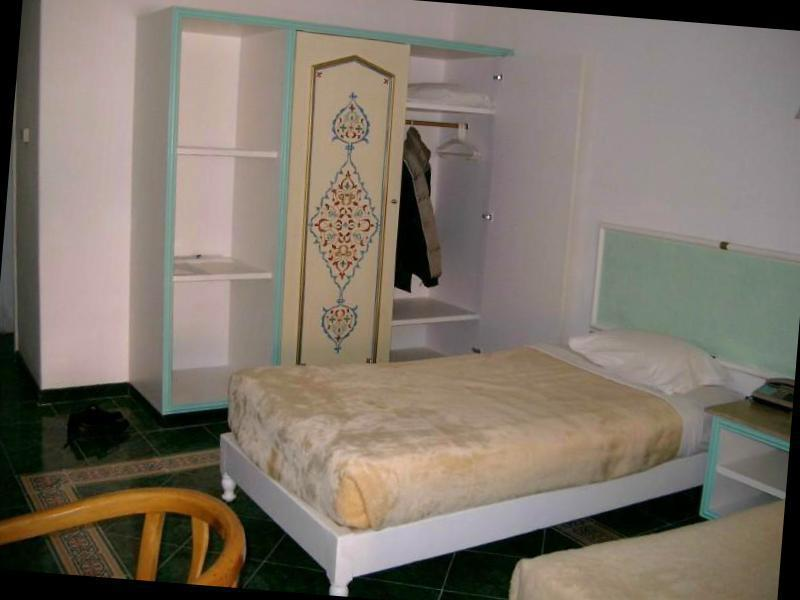Armario: (109, 5, 567, 351)
Otro Obstaculo: (58, 407, 140, 456)
